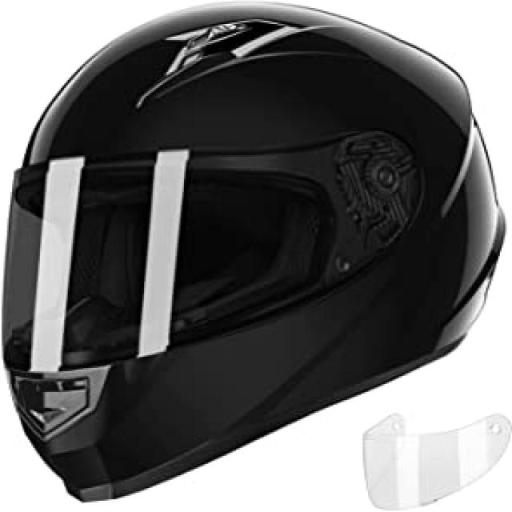Helmet: (3, 4, 503, 500)
